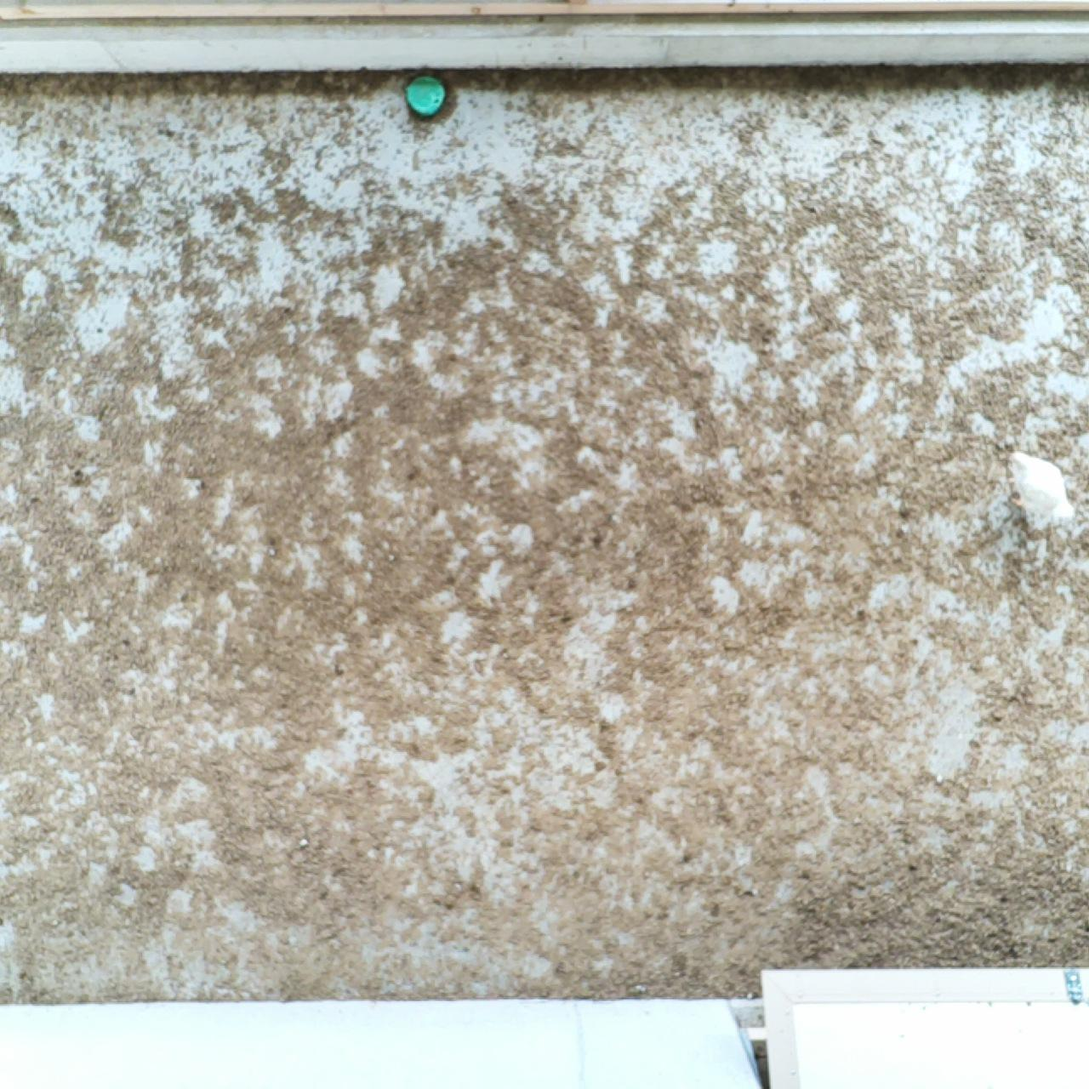chicken: (1006, 451, 1080, 539)
